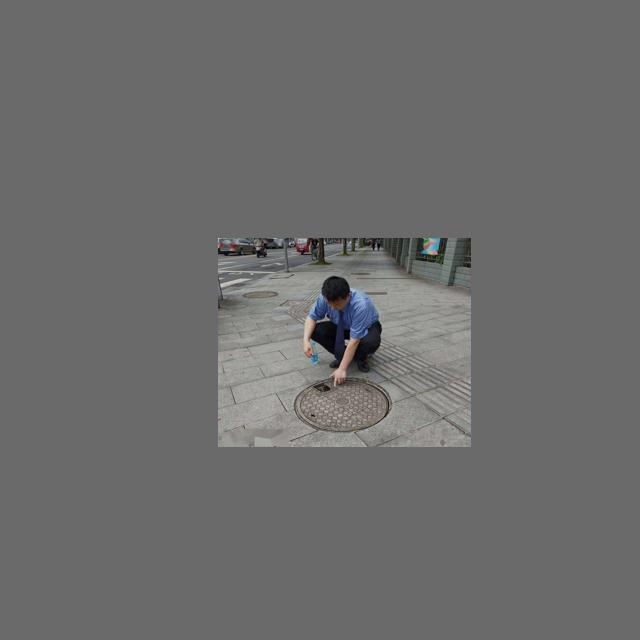broke: (293, 377, 390, 431)
